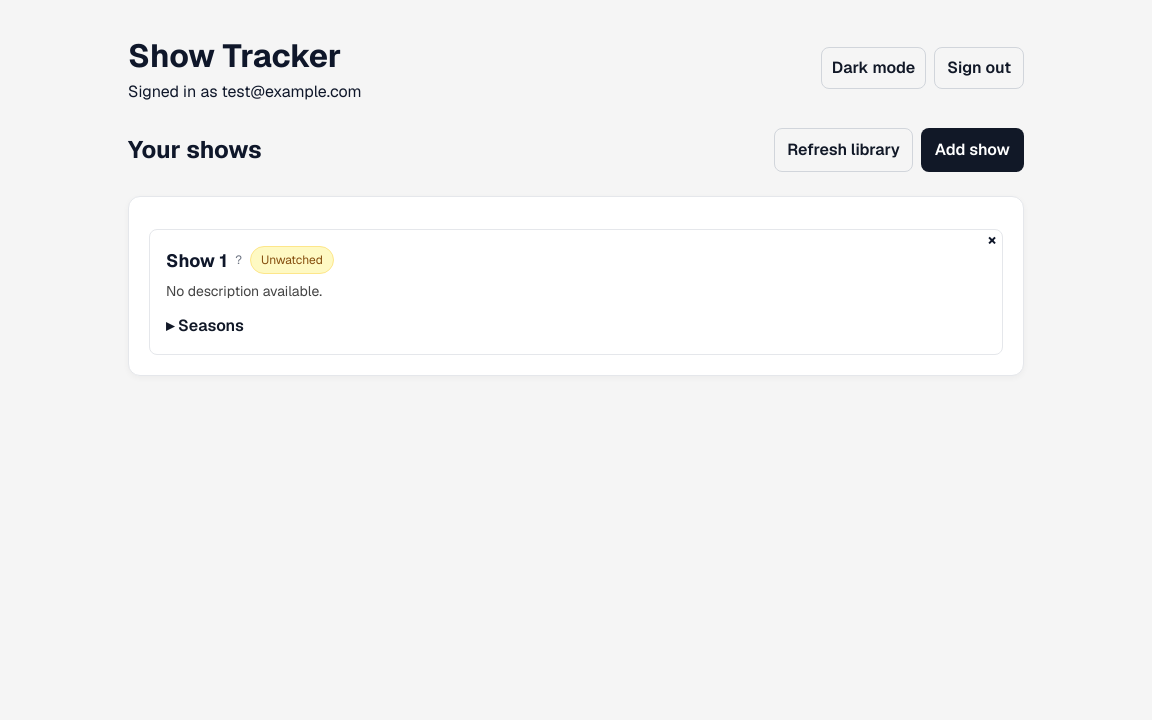
Test: Home refresh › shows error toast when refresh fails
Check: the heading "Your shows" is shown, box left=128, top=132, right=262, bottom=168
Click the button "Refresh library" at (844, 150), box left=774, top=128, right=913, bottom=172
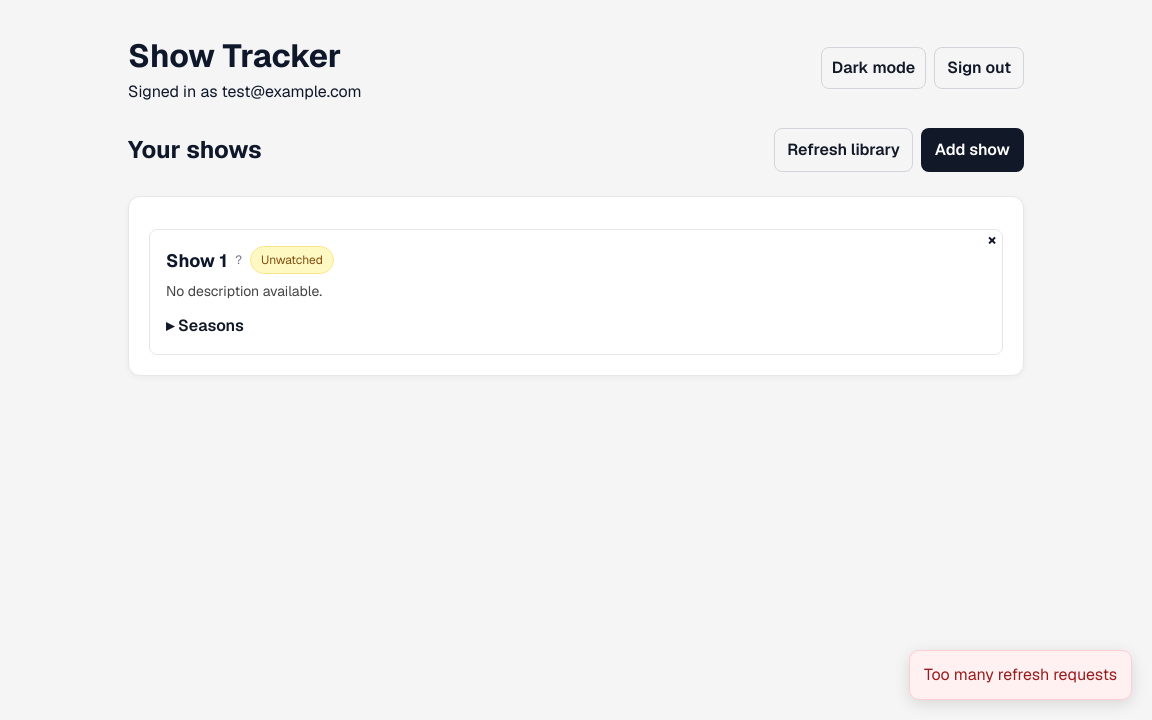
Check: the text "Too many refresh requests" is shown, box left=909, top=650, right=1132, bottom=700
